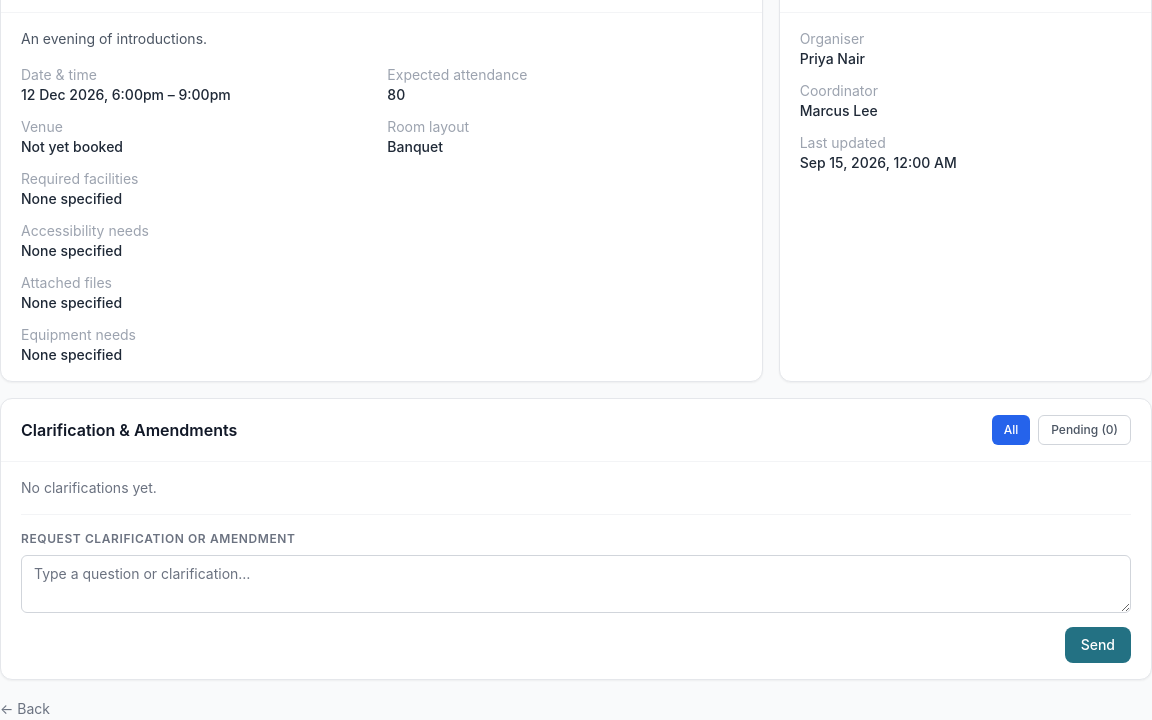
Test: EventDetailPage clarification thread › REQ-CLAR-01-B: Event Coordinator will see an error message if they try to submit a blank clarification message
The width and height of the screenshot is (1152, 720).
(page scrolled)
expect the text box with placeholder "Type a question or clarification…" is shown: met, box [21,555,1131,613]
Step 1. Click the button "Send" → (1098,645), box [1065,627,1131,663]
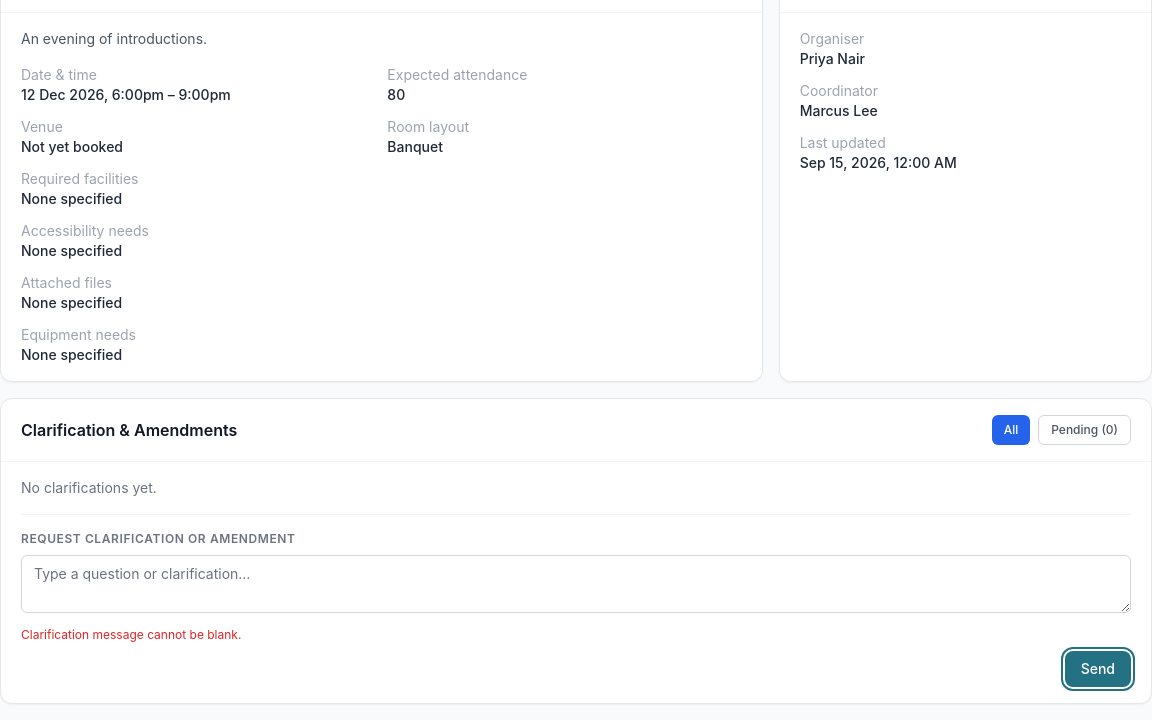
expect the text "Clarification message cannot be blank." is shown: met, box [21,627,241,642]
